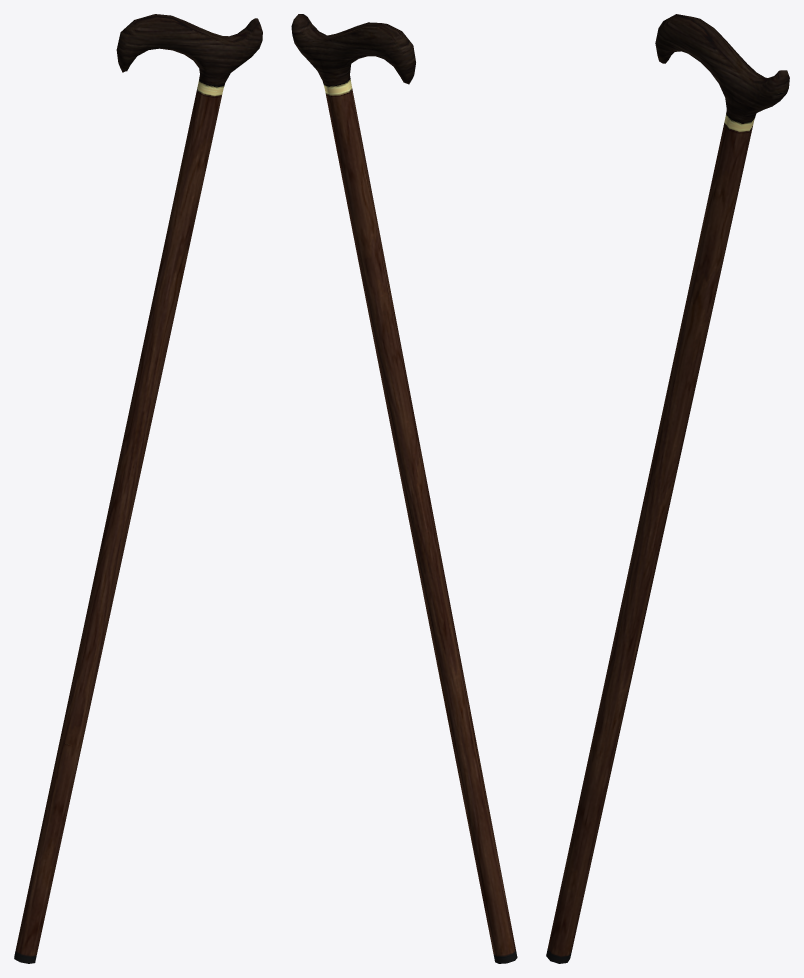
File: cane.glb
3 renders of one model, left to right at view 1: azimuth 30°, elevation 25°; view 2: azimuth 150°, elevation 25°; view 3: azimuth 330°, elevation 25°, orthographic. The views are drawn at different scales.
Parts seen in each view (by area): view 1: stick; view 2: stick; view 3: stick.
Boxes of the visible parts, x1,y1,x2,y2 form: stick: (14,14,262,963); stick: (291,14,517,963); stick: (546,14,789,963).
Size of the model in its own units: 0.2535 by 0.9492 by 0.0461.
Materials: 1 (1 with a texture image).
